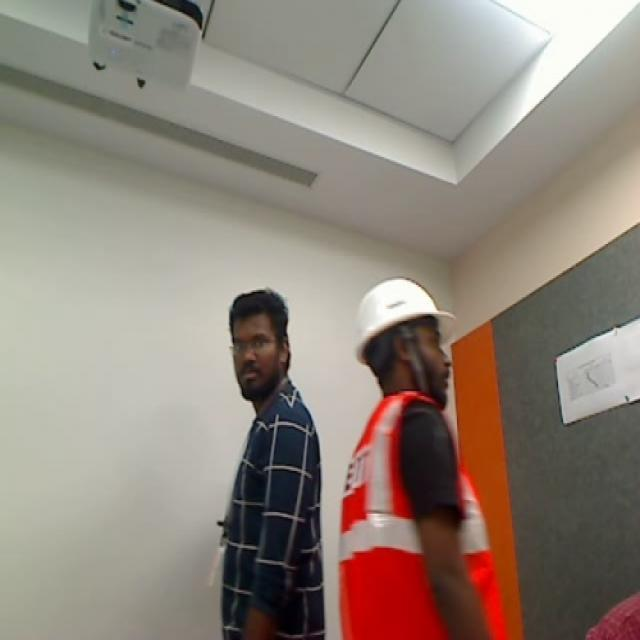safety_helmet: (337, 392, 507, 640)
